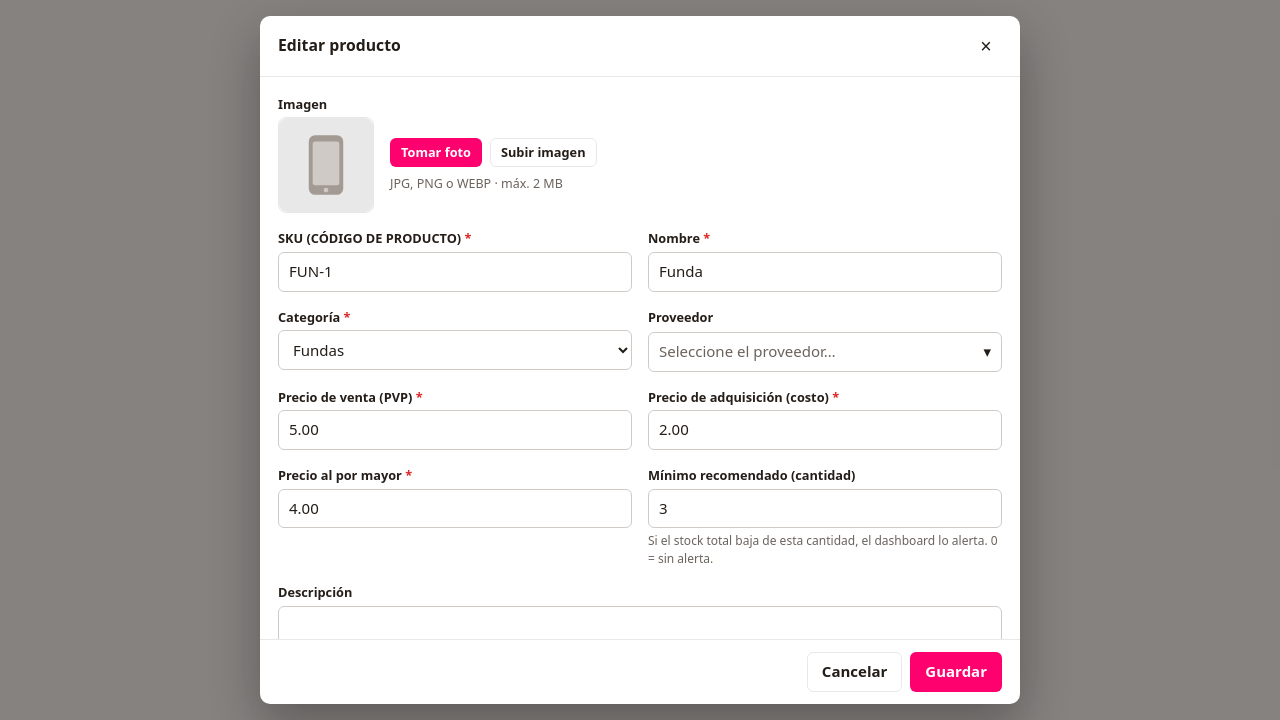
Test: ProductFormModal › Imagen: tomar foto › shows why when the camera permission is denied
Click the button "Tomar foto".
click(436, 152)  # box [390,138,482,167]
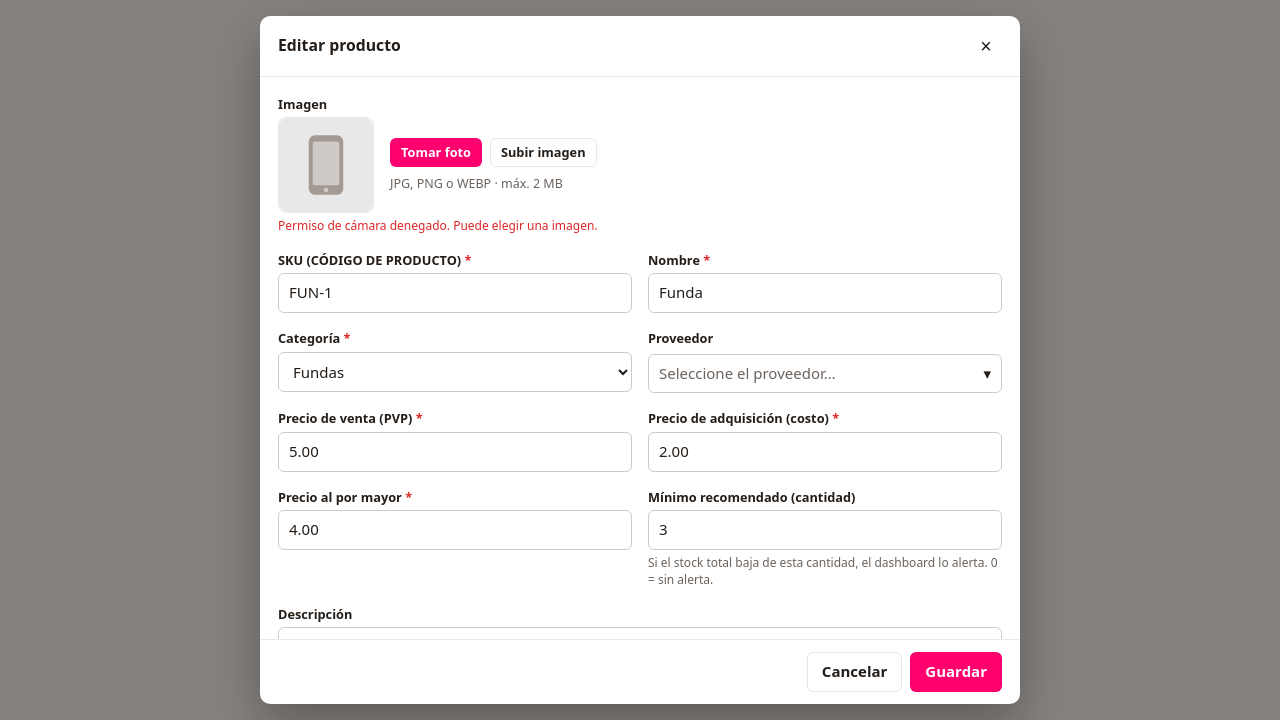
Expected: the message shows "Permiso de cámara denegado", [278,218,598,234]
